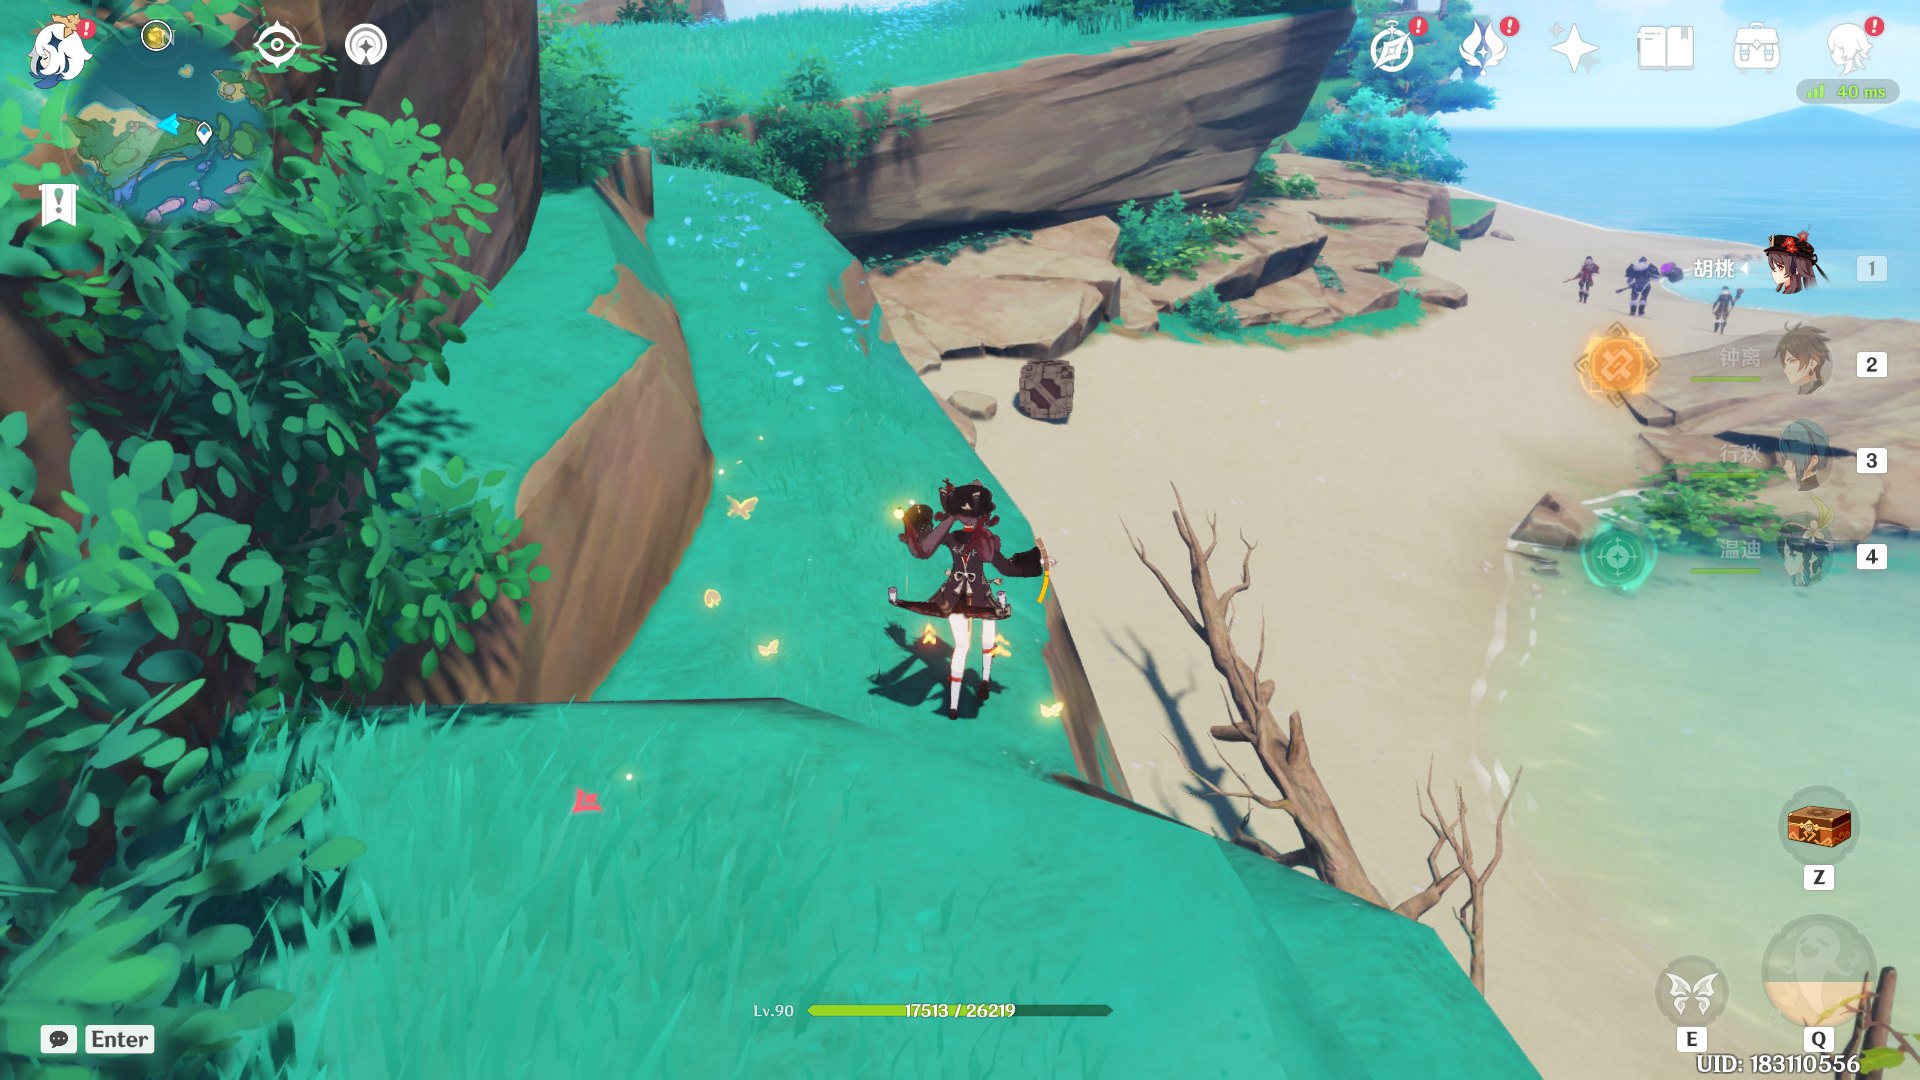character: (845, 471, 1093, 752)
